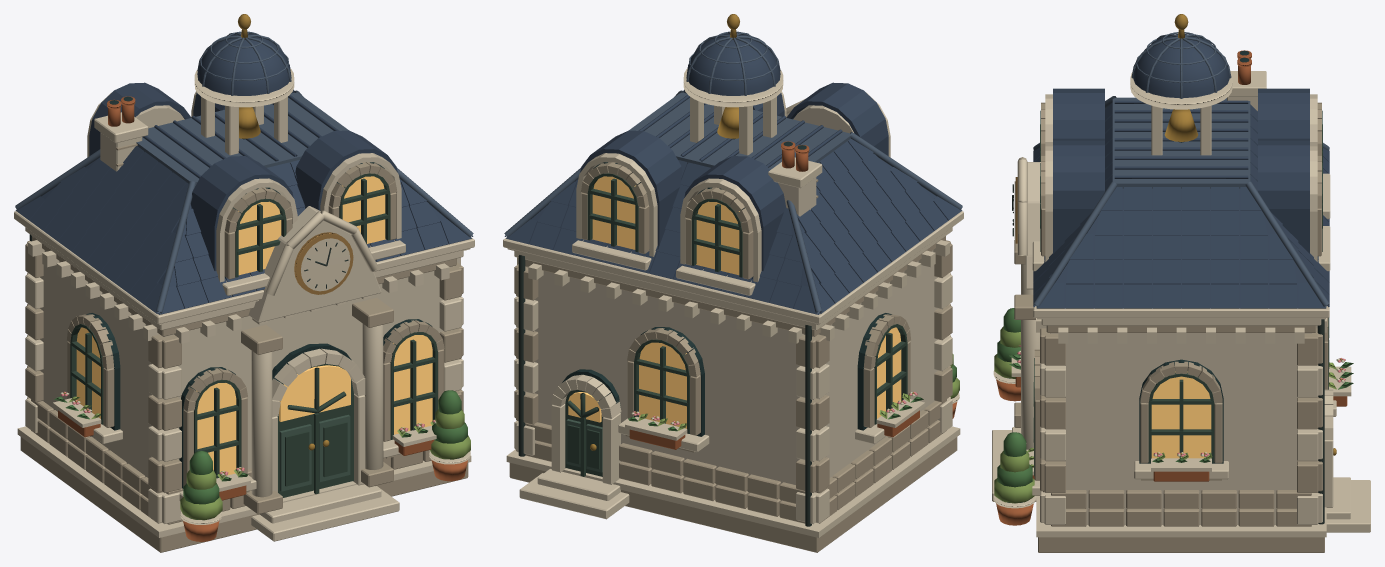
3 renders of one model, left to right at view 1: azimuth 30°, elevation 25°; view 2: azimuth 150°, elevation 25°; view 3: azimuth 270°, elevation 25°, orthographic. The views are drawn at different scales.
Visible parts, largest first — view 1: classic_civic_hall_geometry; view 2: classic_civic_hall_geometry; view 3: classic_civic_hall_geometry.
Part boxes in pixels (left/top/right/bottom): classic_civic_hall_geometry: left=14, top=14, right=474, bottom=552; classic_civic_hall_geometry: left=503, top=14, right=963, bottom=552; classic_civic_hall_geometry: left=992, top=14, right=1370, bottom=552.
Bounding box in the file's own units: 1.04 × 1.25 × 0.9278.
